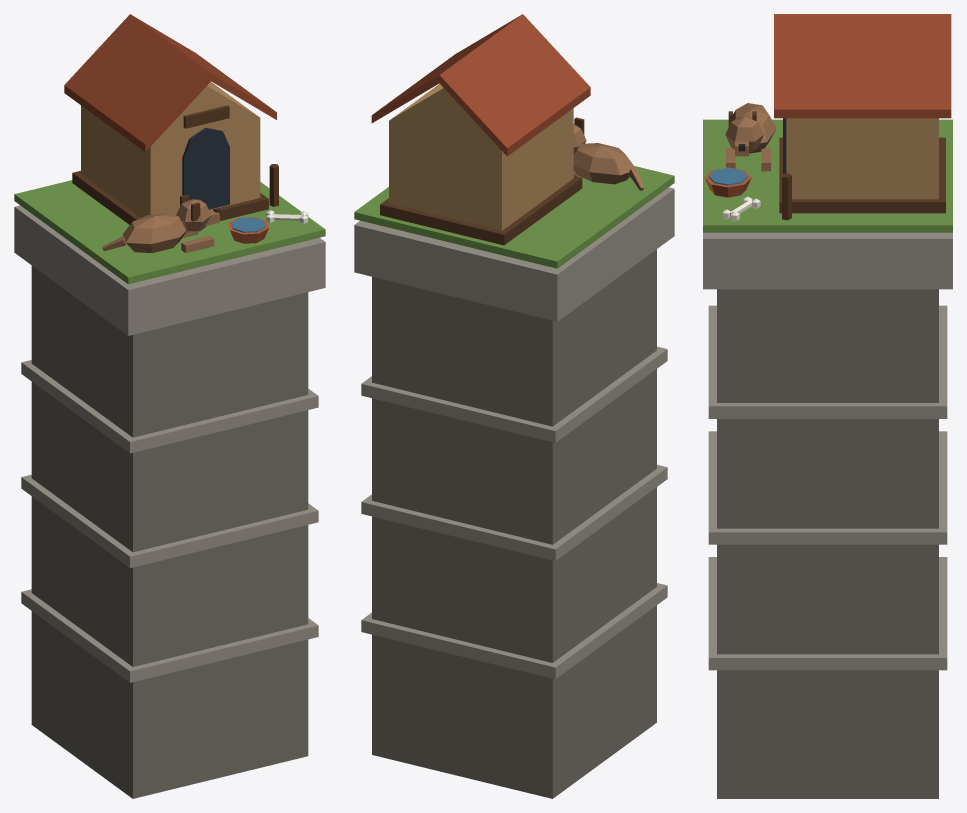
Rendered from decor_kennel.glb.
3 views of the same model, side by side, from view 1: azimuth 30°, elevation 25°; view 2: azimuth 150°, elevation 25°; view 3: azimuth 270°, elevation 25° (orthographic). The views are drawn at different scales.
Visible parts, largest first — view 1: decor_kennel; view 2: decor_kennel; view 3: decor_kennel.
Part boxes in pixels (x1,y1,x2,y2): decor_kennel: (14, 14, 325, 798); decor_kennel: (354, 14, 674, 798); decor_kennel: (703, 14, 952, 798).
Size of the model in its own units: 1.8 by 5.94 by 1.8.
